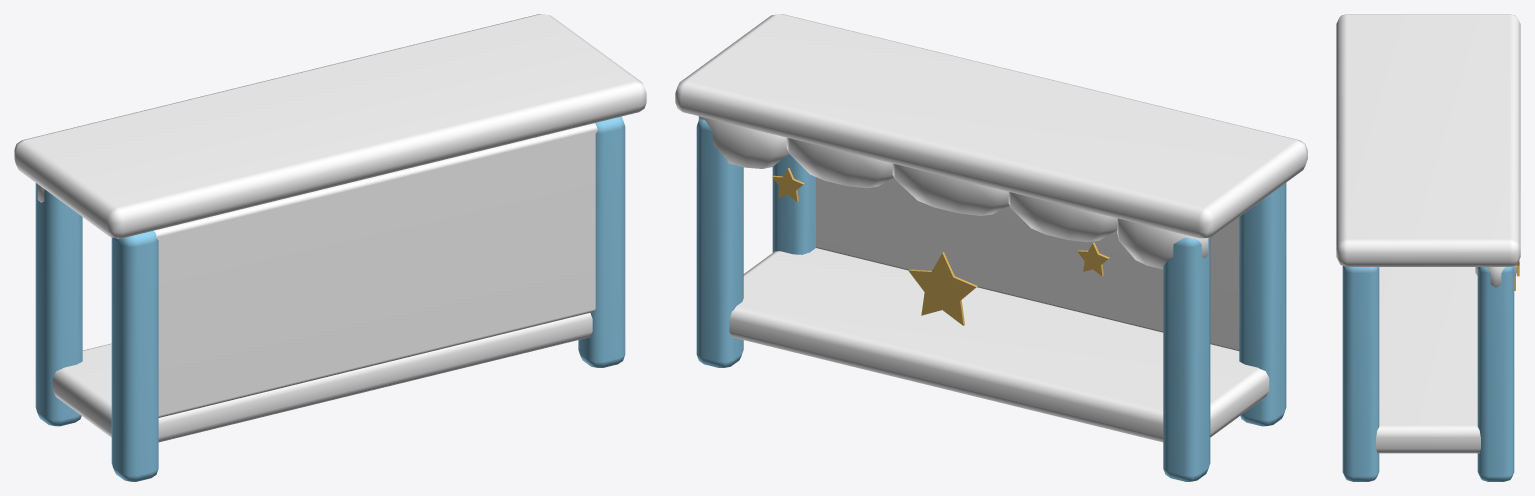
The model's file is shelf_cloud.glb.
The picture shows the model from 3 angles, left to right: view 1: azimuth 30°, elevation 25°; view 2: azimuth 150°, elevation 25°; view 3: azimuth 270°, elevation 25°; orthographic projection. The views are drawn at different scales.
Parts seen in each view (by area): view 1: Body; view 2: Body; view 3: Body.
Boxes of the visible parts, bbox=[...] form: Body: bbox=[14, 14, 646, 481]; Body: bbox=[675, 14, 1307, 481]; Body: bbox=[1336, 14, 1520, 481].
Bounding box in the file's own units: 1.8 × 0.9 × 0.6.
Materials: 3 (3 with a texture image).
